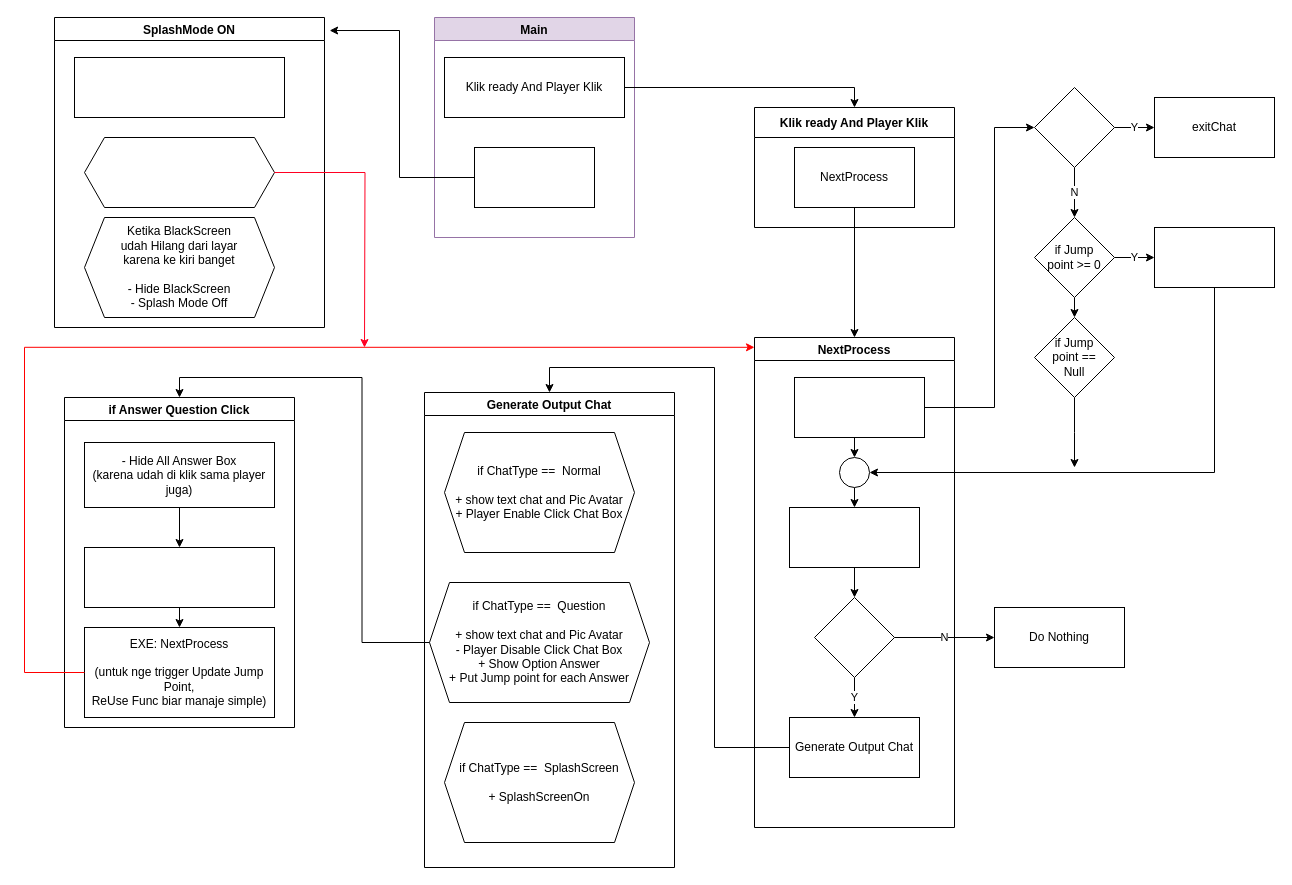
Image size: 1292x885. Some labels were removed from this diagram. The shapes that lost their labels are listed below. From the top down, each one's centre as x and y in pixels, then its label:
(x=179, y=87): BlackScreen Gerak dari Kanan ke kiri
(x=1074, y=127): if Jump point -1
(x=179, y=172): Ketika BlackScreen Tepat Nutup FullLayar EXE: NextProcess
(x=534, y=177): Splash Mode On
(x=1214, y=257): editChatPoint
(x=859, y=407): checkPrevJumpChat
(x=854, y=537): Calculate Next Chat Point
(x=179, y=577): JumpPoint = JumpPoint Answer
(x=854, y=637): if Next Chat Point Valid
